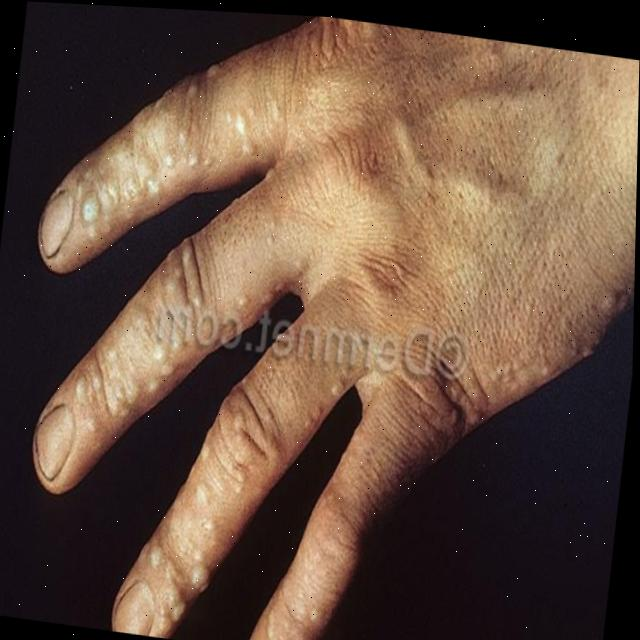Eczema: (64, 37, 258, 245), (157, 377, 292, 611), (50, 253, 193, 450), (501, 253, 635, 407), (299, 506, 334, 610)
